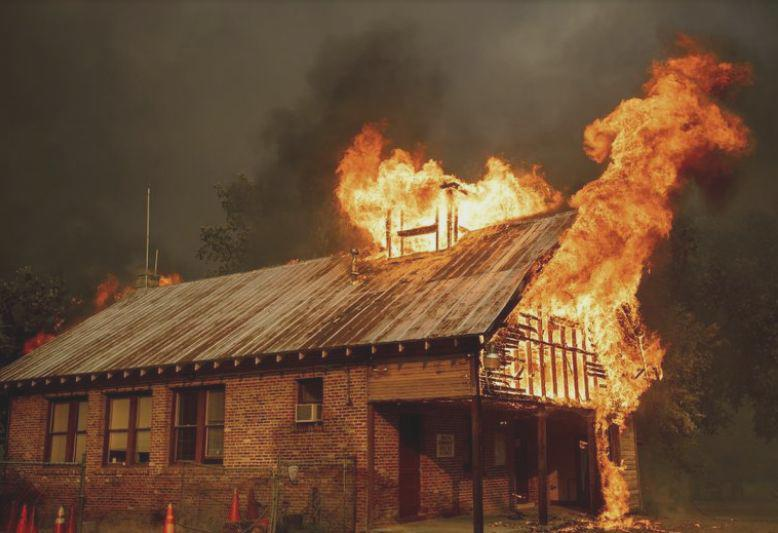fire: (327, 28, 756, 531), (90, 273, 133, 313), (154, 269, 179, 290)
